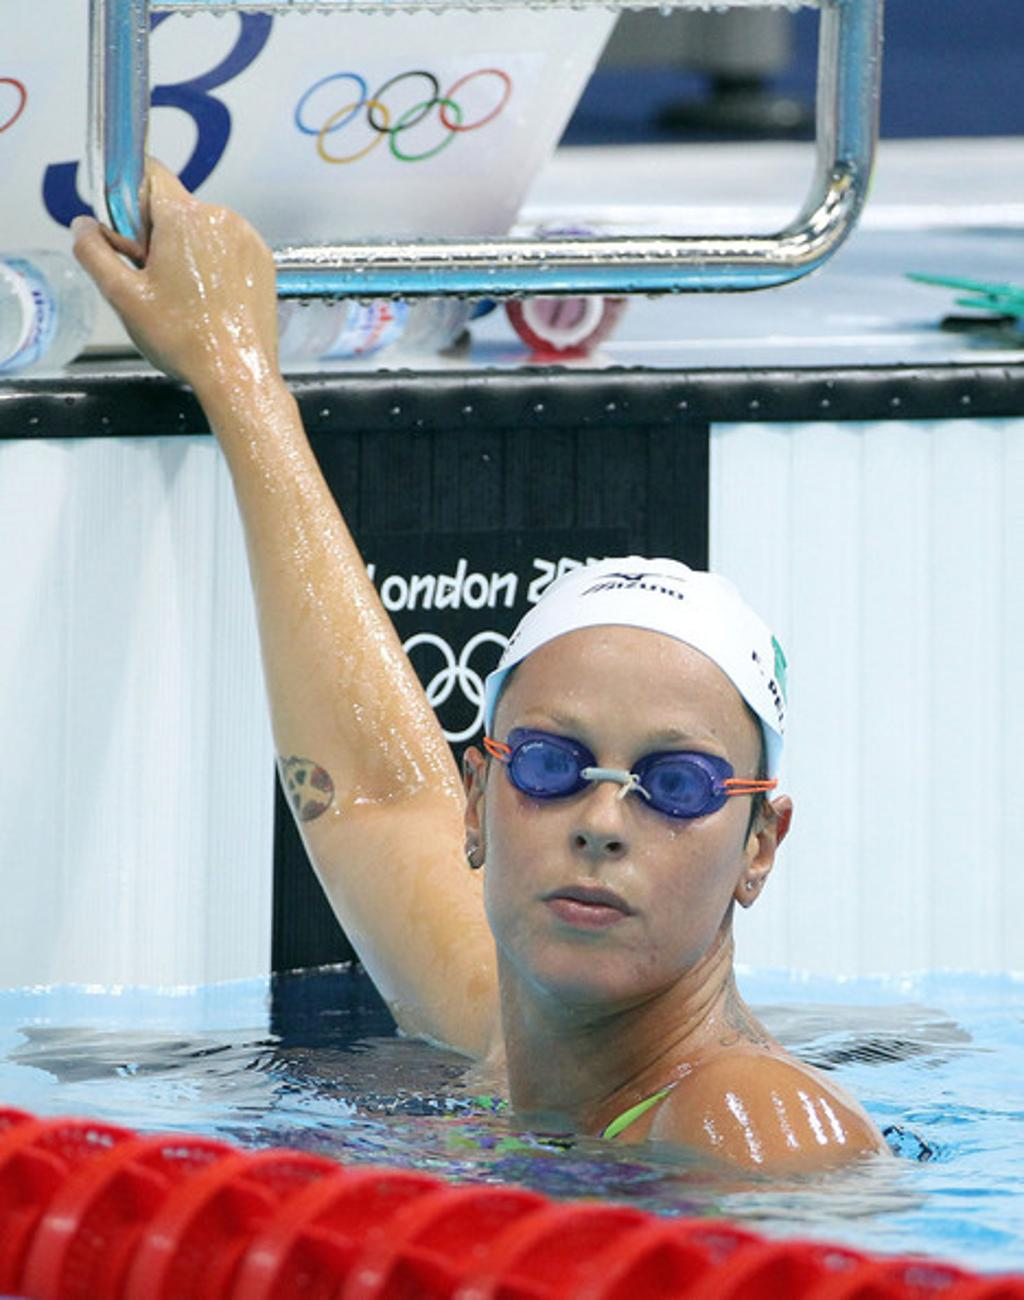face: (495, 645, 744, 993)
